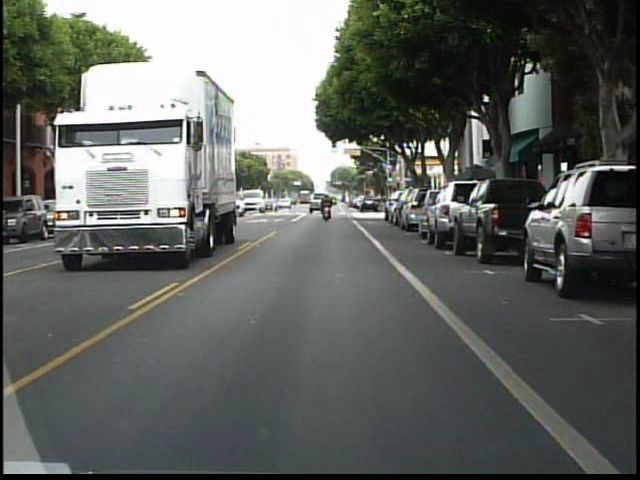person: (322, 192, 335, 223)
